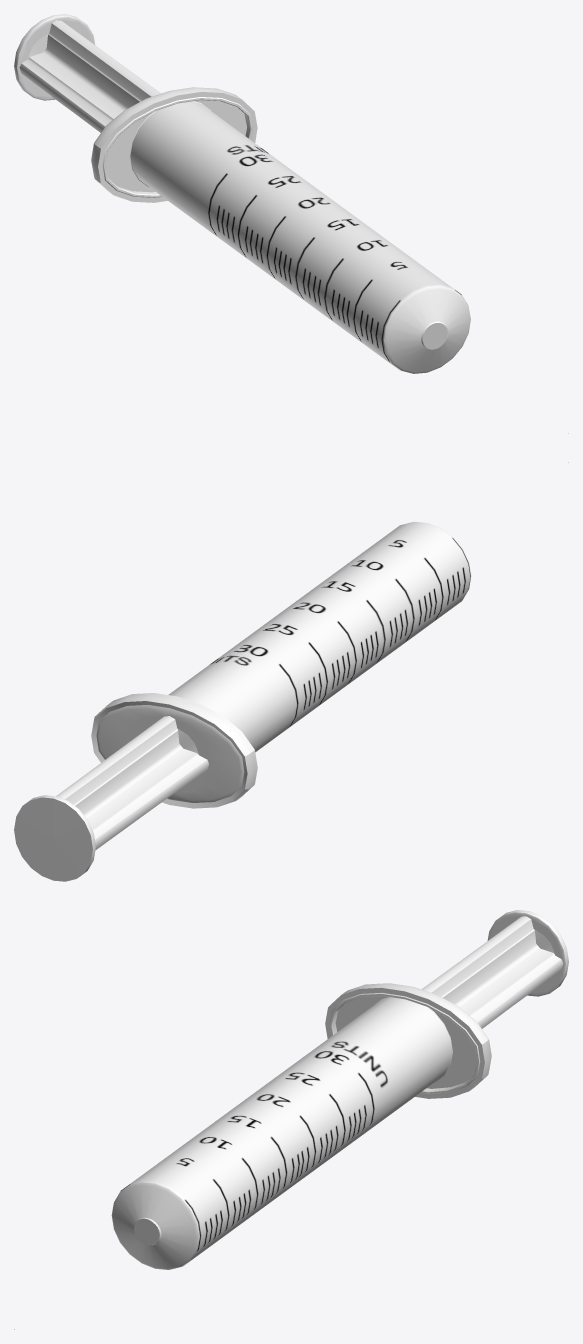
3 renders of one model, top to bottom at view 1: azimuth 30°, elevation 25°; view 2: azimuth 150°, elevation 25°; view 3: azimuth 330°, elevation 25°, orthographic.
Visible parts, largest first — view 1: syringe_v2_syringev2_blinn_0, Cone; view 2: syringe_v2_syringev2_blinn_0; view 3: syringe_v2_syringev2_blinn_0, Cone.
Boxes of the visible parts, left/top/right/bottom form: syringe_v2_syringev2_blinn_0: left=14, top=14, right=568, bottom=433; Cone: left=422, top=323, right=447, bottom=349; syringe_v2_syringev2_blinn_0: left=14, top=462, right=568, bottom=881; syringe_v2_syringev2_blinn_0: left=14, top=910, right=568, bottom=1329; Cone: left=134, top=1218, right=158, bottom=1245.
Bounding box in the file's own units: 0.3465 × 0.2154 × 1.94.
Materials: 1 (1 with a texture image).
